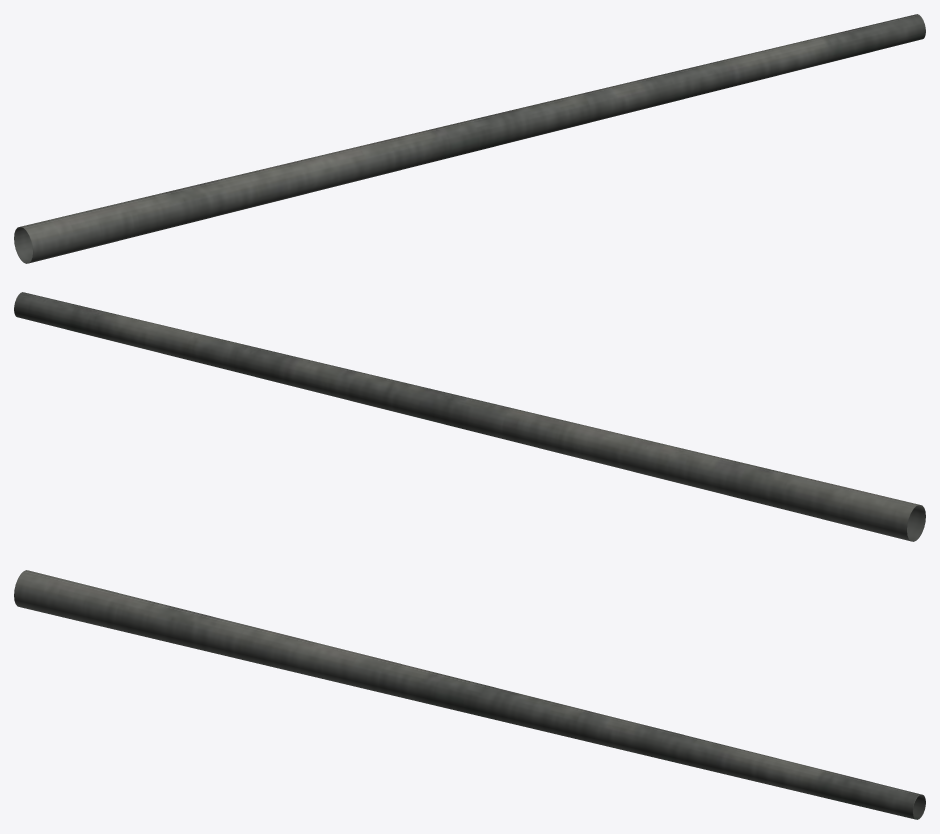
Rendered from armLevel0-v1.glb.
3 views of the same model, one above another, from view 1: azimuth 30°, elevation 25°; view 2: azimuth 150°, elevation 25°; view 3: azimuth 330°, elevation 25° (orthographic).
Visible parts, largest first — view 1: armLevel0-v1; view 2: armLevel0-v1; view 3: armLevel0-v1.
Boxes of the visible parts, bbox=[...] form: armLevel0-v1: bbox=[14, 14, 925, 263]; armLevel0-v1: bbox=[14, 292, 925, 541]; armLevel0-v1: bbox=[14, 570, 925, 819].
Size of the model in its own units: 4.57 by 0.1683 by 0.1683.
1 material, 1 textured.
